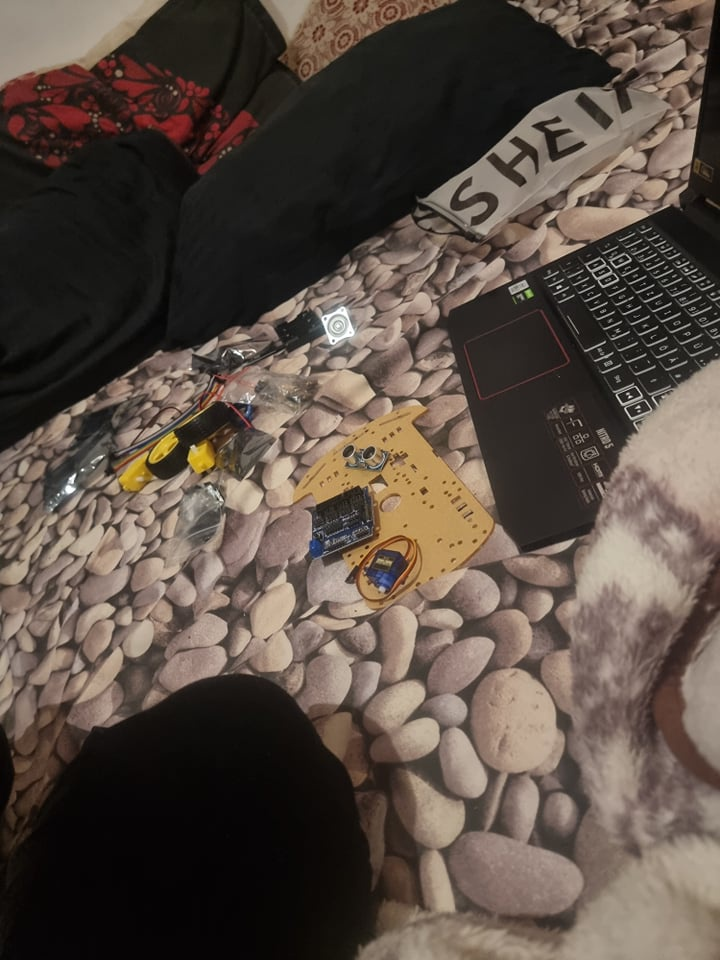5V EXPANSION: (303, 485, 380, 558)
BATTERY BOX: (271, 313, 325, 346)
SENSOR: (339, 442, 392, 469)
